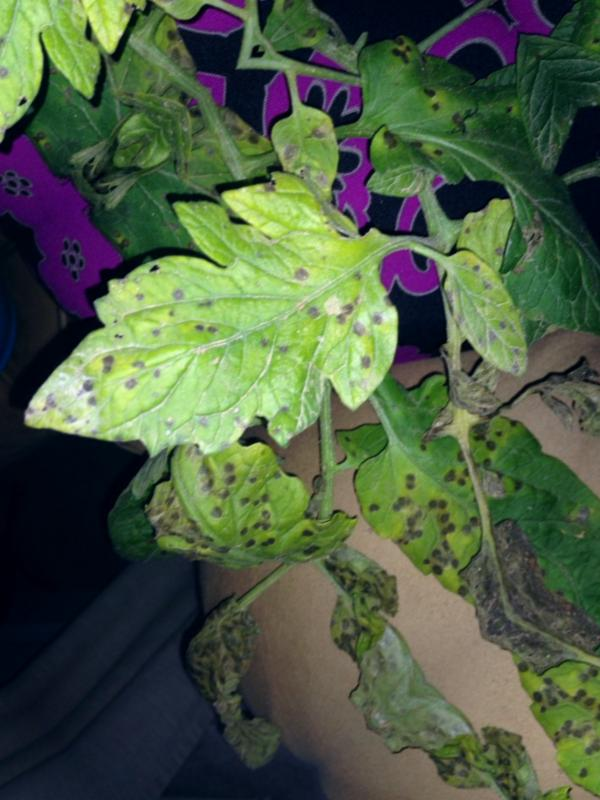Tomato Septoria leaf spot: (0, 120, 448, 579), (293, 0, 600, 395), (106, 375, 373, 649), (327, 395, 536, 613), (400, 230, 575, 423), (239, 79, 368, 216)
